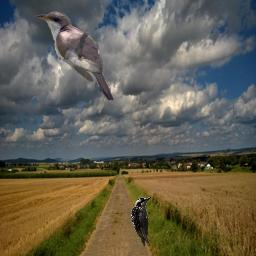Cuckoo: (35, 9, 114, 103)
Woodpecker: (129, 194, 154, 249)
